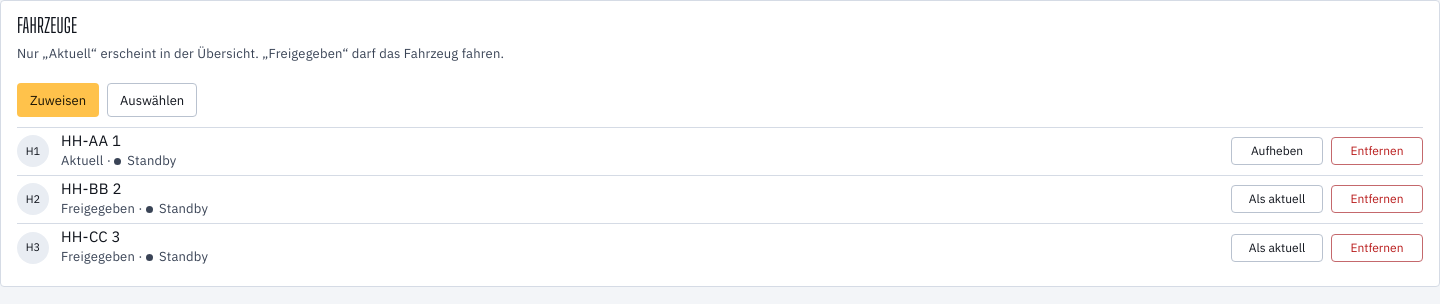
Test case: Fahrzeuge panel on the driver detail › toggles a row by clicking its text in selection mode
Step 1. Click the button "Auswählen" → x=152, y=100, box [107,83,197,117]
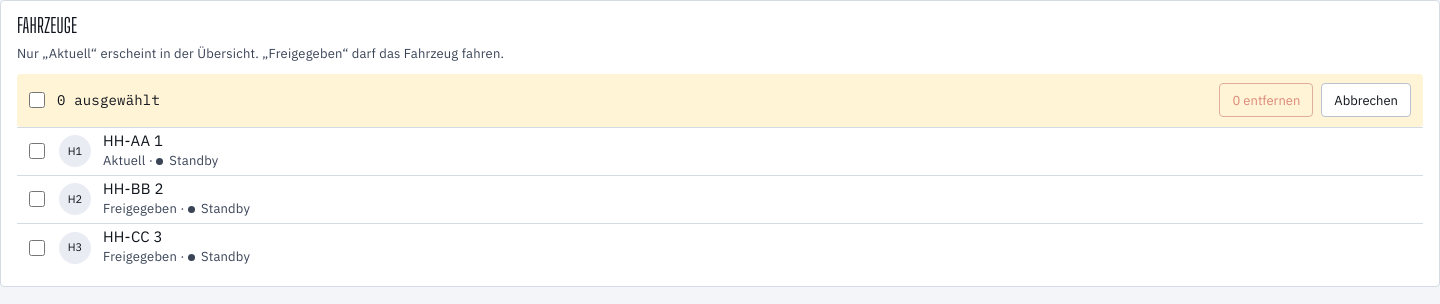
Step 2. Click the link "HH-BB 2" → x=133, y=188, box [103,179,164,198]
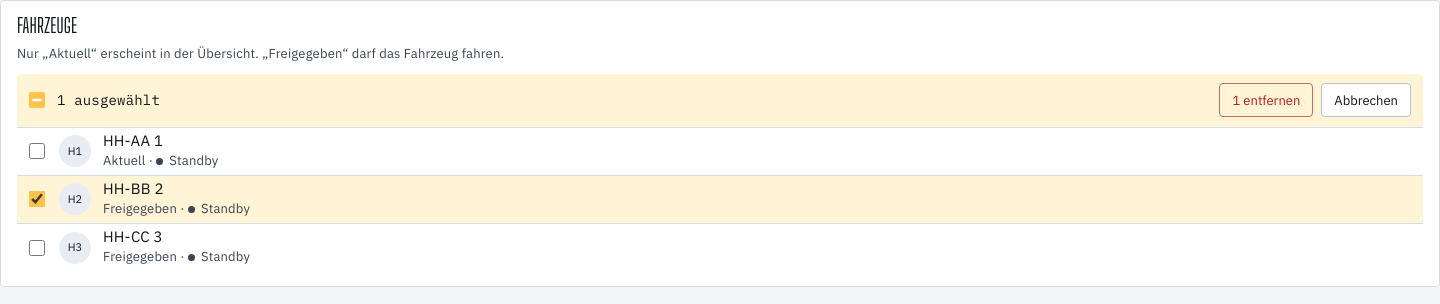
Check: the text "1 ausgewählt" is shown, box [57,90,160,110]
